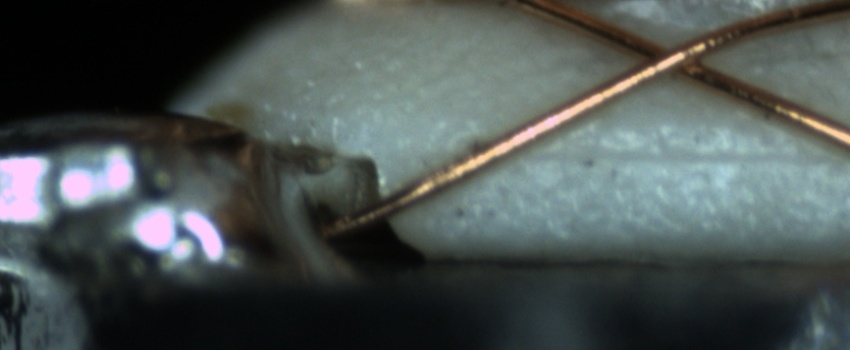CL: (610, 25, 722, 89)
DL: (509, 128, 850, 192)
